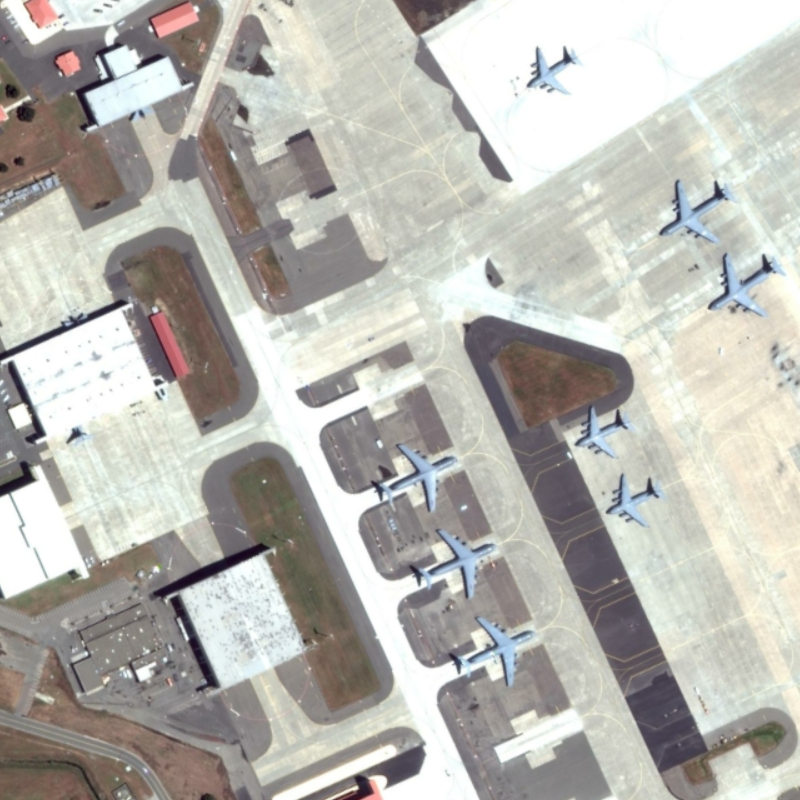A3: (569, 402, 635, 461), (603, 470, 667, 530), (522, 42, 587, 99)
A4: (368, 439, 463, 517), (410, 525, 500, 604), (447, 613, 538, 691), (699, 249, 789, 320), (655, 173, 740, 247)
